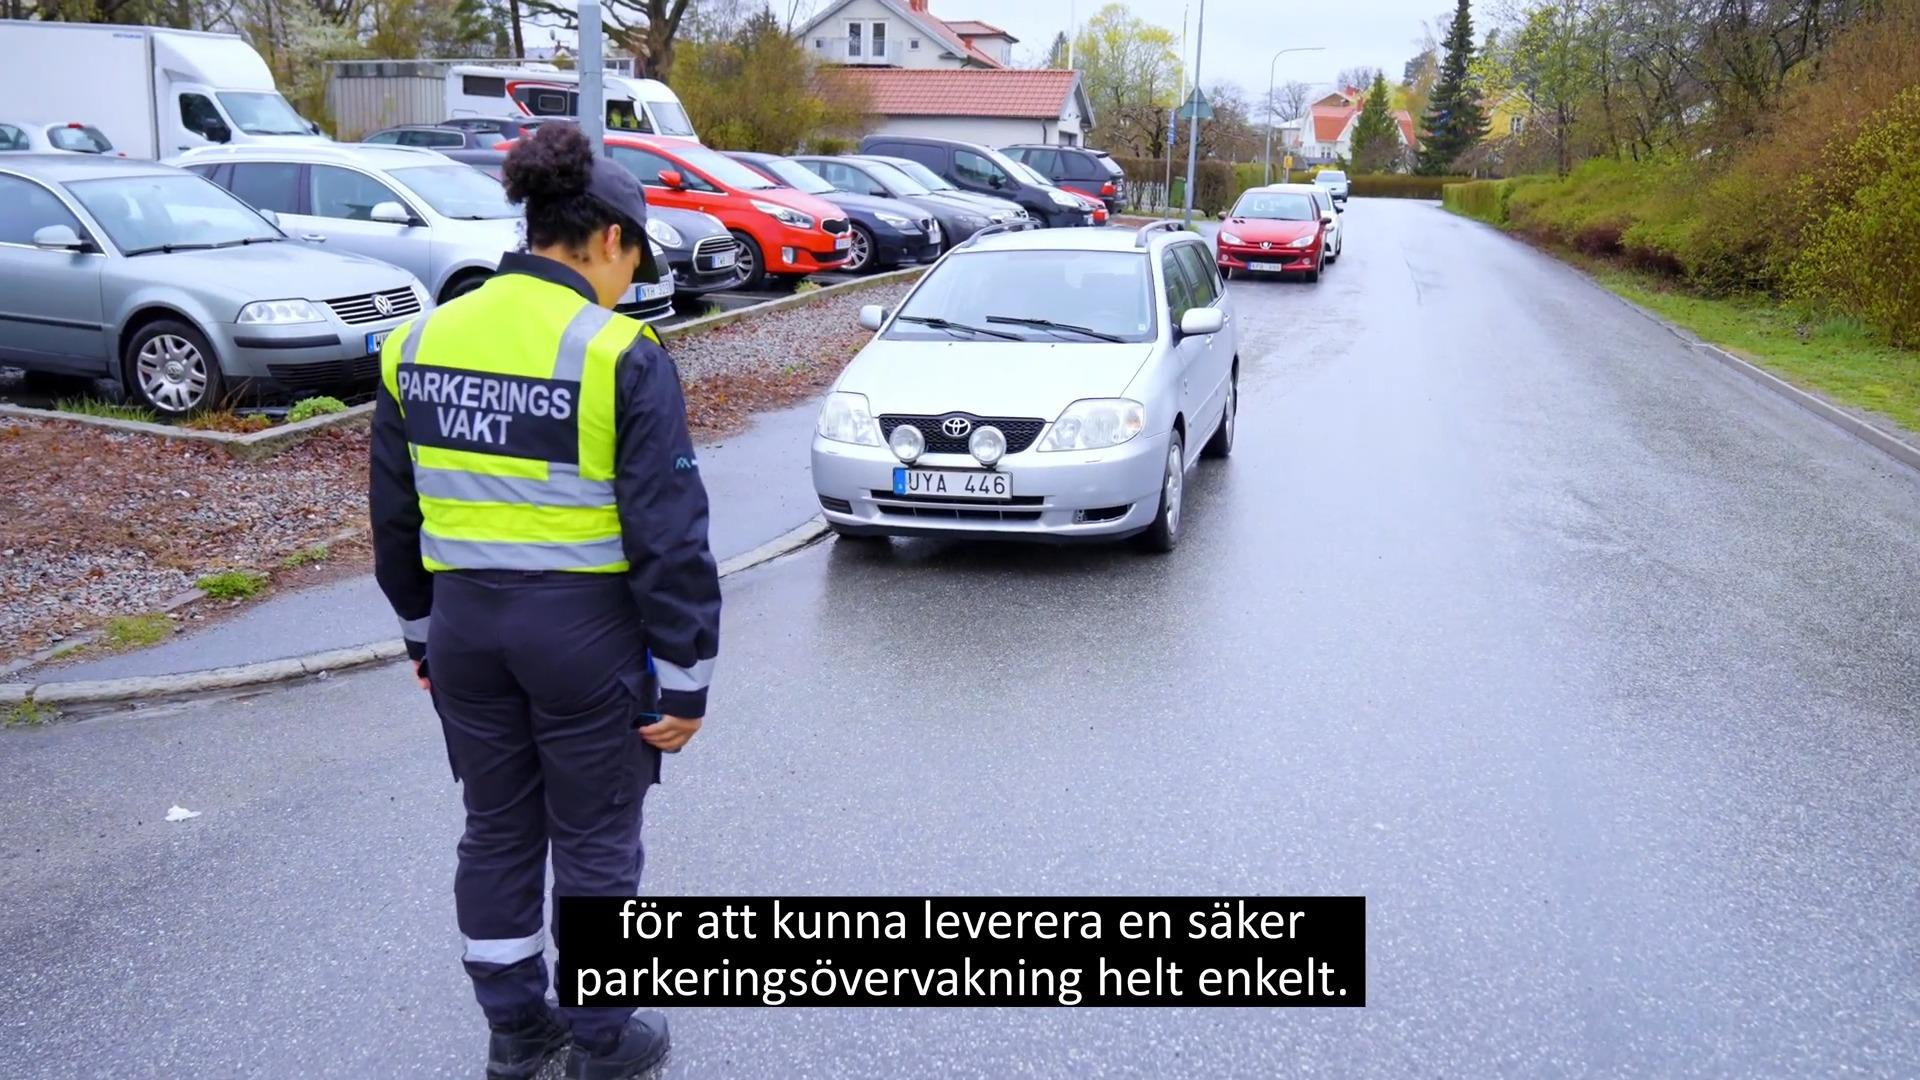parking-attendant: (371, 123, 720, 1079)
